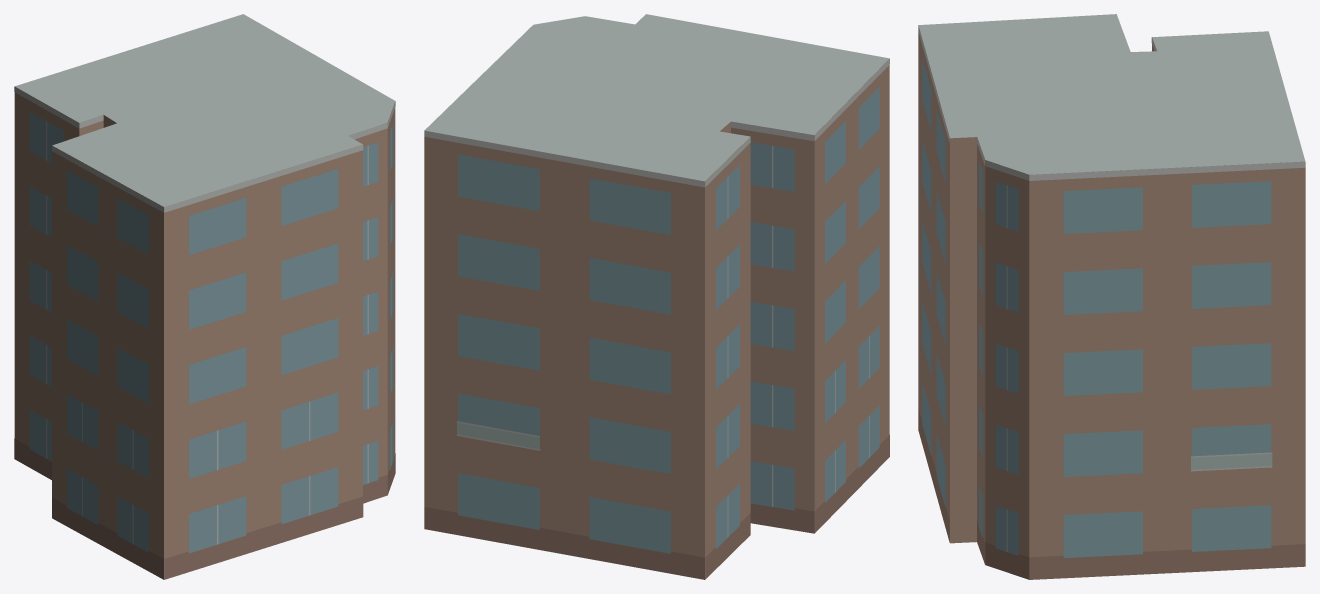
Rendered from survey-upis-32967381.glb.
3 renders of one model, left to right at view 1: azimuth 30°, elevation 25°; view 2: azimuth 150°, elevation 25°; view 3: azimuth 270°, elevation 25°, orthographic. The views are drawn at different scales.
Parts seen in each view (by area): view 1: survey-upis-32967381.tmp; view 2: survey-upis-32967381.tmp; view 3: survey-upis-32967381.tmp.
Boxes of the visible parts, x1,y1,x2,y2 form: survey-upis-32967381.tmp: (14, 14, 395, 579); survey-upis-32967381.tmp: (424, 14, 889, 579); survey-upis-32967381.tmp: (918, 14, 1305, 579).
Size of the model in its own units: 13.54 by 15.9 by 13.78.
